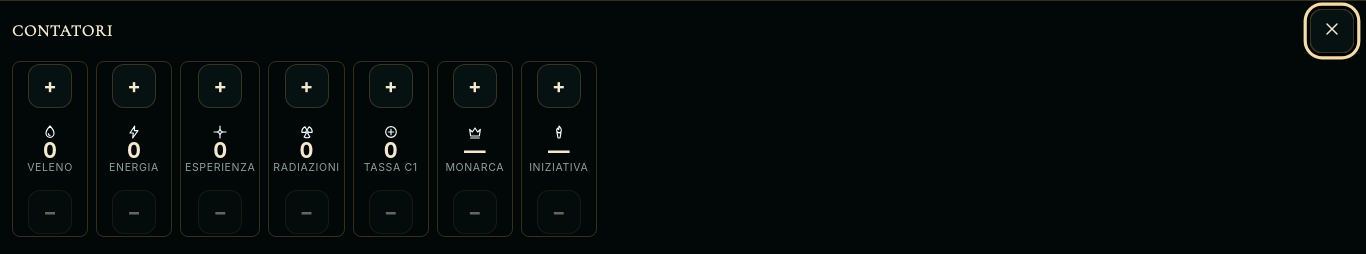
Test: Contatori drawer (R2 §5) › moves counters by one, floored at zero, with the D-036 delta on the value
What coordinates should you click on to do the following:
click the button named "Aggiungi 1 all'energia di Giocatore 1"
I would click on:
 (134, 86)
Its box is [112,64,156,108].
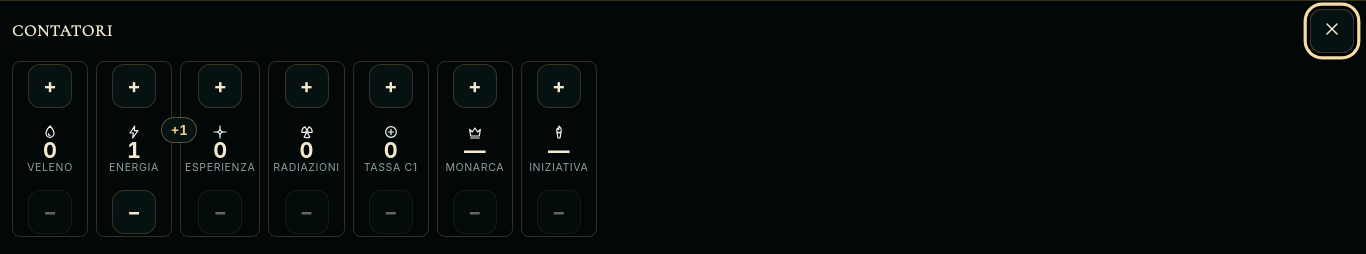
What coordinates should you click on to do the following:
click the button named "Aggiungi 1 all'energia di Giocatore 1"
I would click on:
 (134, 86)
Its box is [112,64,156,108].
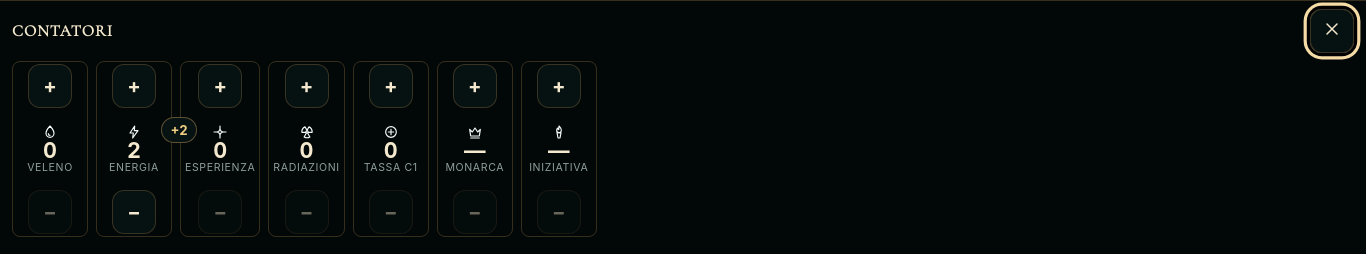
Check: the button named "Togli 1 dalle radiazioni di Giocatore 1" is disabled, box [285,190,329,234]
Check: the text with test id "counter-value" reads "2", box [127,137,141,163]
Check: the text with test id "delta-badge" reads "+2", box [171,122,188,138]
